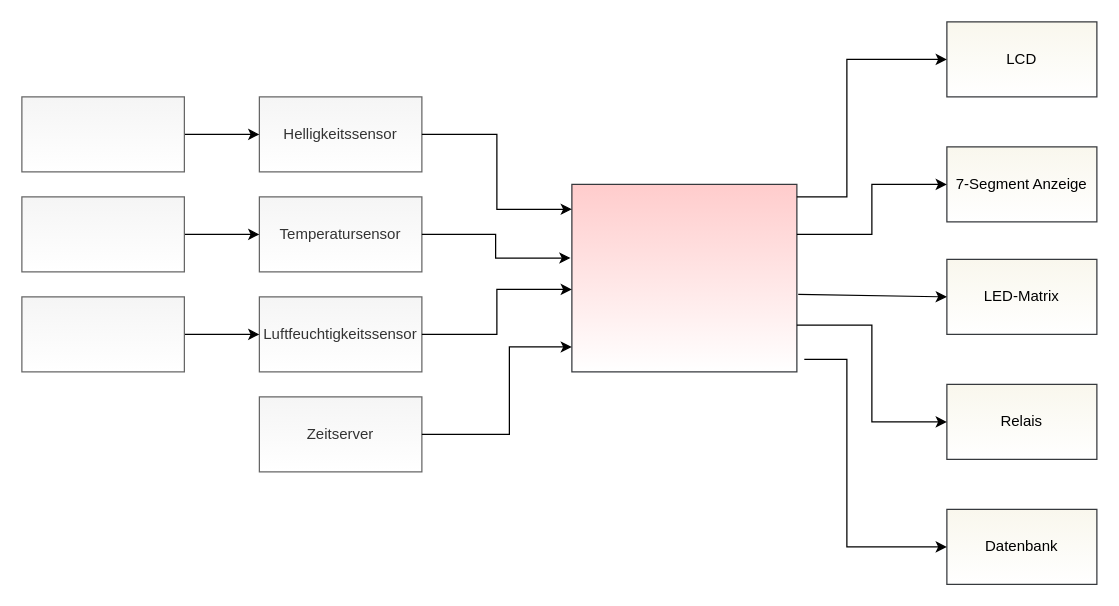
The diagram is 1119 pixels wide and 606 high, and some of its shapes have lost their labels. Here are the shapes that lost their labels. From the top down, the box of each, then its label:
(21, 96, 184, 172): Helligkeit
(21, 196, 184, 272): Temperatur
(571, 183, 797, 372): Raspberry PI
(21, 296, 184, 372): Luftfeuchtigkeit
